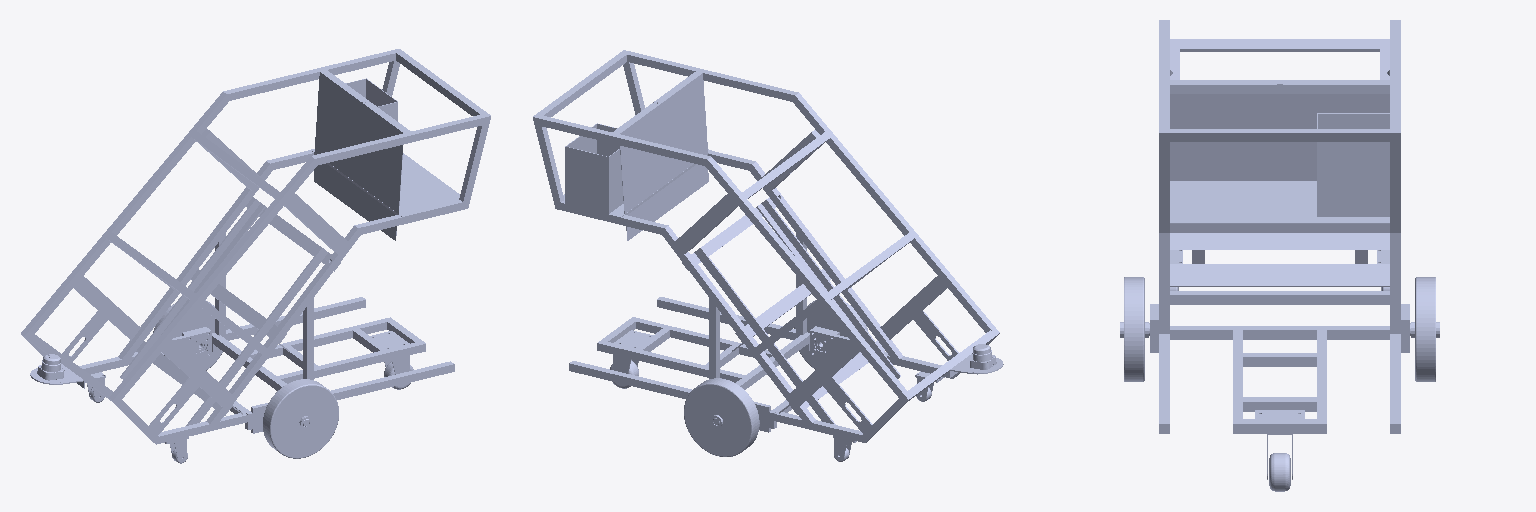
robot.urdf — DCMachine_ChassisAssy3:
<?xml version="1.0" encoding="utf-8"?>
<!-- This URDF was automatically created by SolidWorks to URDF Exporter! Originally created by [author] ([email redacted]) 
     Commit Version: 1.6.0-4-g7f85cfe  Build Version: 1.6.7995.38578
     For more information, please see http://wiki.ros.org/sw_urdf_exporter -->
<robot
  name="DCMachine_ChassisAssy3">
  <!-- Define the center of the main robot chassis projected on the ground -->	
  <link name="base_footprint"/>

  <link
    name="base_link">
    <inertial>
      <origin
        xyz="-0.071042 -0.003458 0.29314"
        rpy="0 0 0" />
      <mass
        value="7.4678" />
      <inertia
        ixx="0.60509"
        ixy="-0.0092587"
        ixz="0.18184"
        iyy="0.90966"
        iyz="0.0061174"
        izz="0.76878" />
    </inertial>
    <visual>
      <origin
        xyz="0 0 0"
        rpy="0 0 0" />
      <geometry>
        <mesh
          filename="package://suru_v1_0/meshes/base_link.STL" />
      </geometry>
      <material
        name="">
        <color
          rgba="0.79608 0.82353 0.93725 1" />
      </material>
    </visual>
    <collision>
      <origin
        xyz="0 0 0"
        rpy="0 0 0" />
      <geometry>
        <mesh
          filename="package://suru_v1_0/meshes/base_link.STL" />
      </geometry>
    </collision>
  </link>
  <joint 
    name="base_joint" 
    type="fixed">
    <parent 
      link="base_footprint"/>
    <child 
      link="base_link" />
    <origin 
      xyz="0.0 0.0 0.075" 
      rpy="0 0 3.14159"/>
  </joint>
  <link
    name="Lidar_link">
    <inertial>
      <origin
        xyz="4.3703E-05 3.9109E-07 -0.030142"
        rpy="0 0 0" />
      <mass
        value="0.016942" />
      <inertia
        ixx="6.7498E-06"
        ixy="4.1275E-10"
        ixz="-3.3392E-09"
        iyy="6.6963E-06"
        iyz="-1.284E-10"
        izz="1.0274E-05" />
    </inertial>
    <visual>
      <origin
        xyz="0 0 0"
        rpy="0 0 0" />
      <geometry>
        <mesh
          filename="package://suru_v1_0/meshes/Lidar_link.STL" />
      </geometry>
      <material
        name="">
        <color
          rgba="0.79608 0.82353 0.93725 1" />
      </material>
    </visual>
    <collision>
      <origin
        xyz="0 0 0"
        rpy="0 0 0" />
      <geometry>
        <mesh
          filename="package://suru_v1_0/meshes/Lidar_link.STL" />
      </geometry>
    </collision>
  </link>
  <joint
    name="Lidar_joint"
    type="fixed">
    <origin
      xyz="0.57569 0.032864 0.20635"
      rpy="0 -0.087266 0" />
    <parent
      link="base_link" />
    <child
      link="Lidar_link" />
    <axis
      xyz="0 0 0" />
  </joint>
  <link
    name="imu_link">
    <inertial>
      <origin
        xyz="0 -5.3809E-19 -0.0005"
        rpy="0 0 0" />
      <mass
        value="0.00019686" />
      <inertia
        ixx="1.6823E-09"
        ixy="3.1487E-26"
        ixz="2.9081E-24"
        iyy="6.6823E-09"
        iyz="-7.6801E-27"
        izz="8.3318E-09" />
    </inertial>
    <visual>
      <origin
        xyz="0 0 0"
        rpy="0 0 0" />
      <geometry>
        <mesh
          filename="package://suru_v1_0/meshes/imu_link.STL" />
      </geometry>
      <material
        name="">
        <color
          rgba="0.79608 0.82353 0.93725 1" />
      </material>
    </visual>
    <collision>
      <origin
        xyz="0 0 0"
        rpy="0 0 0" />
      <geometry>
        <mesh
          filename="package://suru_v1_0/meshes/imu_link.STL" />
      </geometry>
    </collision>
  </link>
  <joint
    name="imu_joint"
    type="fixed">
    <origin
      xyz="-0.34662 0 0.682"
      rpy="0 0 0" />
    <parent
      link="base_link" />
    <child
      link="imu_link" />
    <axis
      xyz="0 0 0" />
  </joint>
  <link
    name="LDWheel_link">
    <inertial>
      <origin
        xyz="-6.9389E-18 1.3878E-17 -0.0275"
        rpy="0 0 0" />
      <mass
        value="1.2472" />
      <inertia
        ixx="0.0032987"
        ixy="-9.4868E-20"
        ixz="-2.6982E-19"
        iyy="0.0032987"
        iyz="9.4165E-21"
        izz="0.0062599" />
    </inertial>
    <visual>
      <origin
        xyz="0 0 0"
        rpy="0 0 0" />
      <geometry>
        <mesh
          filename="package://suru_v1_0/meshes/LDWheel_link.STL" />
      </geometry>
      <material
        name="">
        <color
          rgba="0.79608 0.82353 0.93725 1" />
      </material>
    </visual>
    <collision>
      <origin
        xyz="0 0 0"
        rpy="0 0 0" />
      <geometry>
        <mesh
          filename="package://suru_v1_0/meshes/LDWheel_link.STL" />
      </geometry>
    </collision>
  </link>
  <joint
    name="LDwheel_joint"
    type="fixed"> <!--continuous-->
    <origin
      xyz="0 0.305 0"
      rpy="-1.5708 0 0" />
    <parent
      link="base_link" />
    <child
      link="LDWheel_link" />
    <axis
      xyz="0 0 1" />
    <limit
      effort="0.1"
      velocity="0.1" />
    <dynamics
      damping="0.1"
      friction="0.1" />
  </joint>
  <link
    name="RDwheel_link">
    <inertial>
      <origin
        xyz="-6.93889390390723E-18 1.38777878078145E-17 0.0275"
        rpy="0 0 0" />
      <mass
        value="1.24724011920055" />
      <inertia
        ixx="0.00329865472841151"
        ixy="-2.03287907341032E-19"
        ixz="-1.26969018217939E-22"
        iyy="0.00329865472841151"
        iyz="1.30592719044522E-19"
        izz="0.00625989081903105" />
    </inertial>
    <visual>
      <origin
        xyz="0 0 0"
        rpy="0 0 0" />
      <geometry>
        <mesh
          filename="package://suru_v1_0/meshes/RDwheel_link.STL" />
      </geometry>
      <material
        name="">
        <color
          rgba="0.796078431372549 0.823529411764706 0.937254901960784 1" />
      </material>
    </visual>
    <collision>
      <origin
        xyz="0 0 0"
        rpy="0 0 0" />
      <geometry>
        <mesh
          filename="package://suru_v1_0/meshes/RDwheel_link.STL" />
      </geometry>
    </collision>
  </link>
  <joint
    name="RDwheel_joint"
    type="fixed"> <!--continuous-->
    <origin
      xyz="0 -0.305 0"
      rpy="-1.5708 0 0" />
    <parent
      link="base_link" />
    <child
      link="RDwheel_link" />
    <axis
      xyz="0 0 -1" />
    <limit
      effort="0.1"
      velocity="0.1" />
    <dynamics
      damping="0.1"
      friction="0.1" />
  </joint>
  <link
    name="Backcastor_link">
    <inertial>
      <origin
        xyz="5.55111512312578E-17 -1.04083408558608E-17 0.02"
        rpy="0 0 0" />
      <mass
        value="0.156204027643944" />
      <inertia
        ixx="6.94087648783948E-05"
        ixy="-1.68438824387141E-08"
        ixz="5.29770780684553E-22"
        iyy="6.94519067047098E-05"
        iyz="-6.67976189330212E-21"
        izz="0.000100612250150483" />
    </inertial>
    <visual>
      <origin
        xyz="0 0 0"
        rpy="0 0 0" />
      <geometry>
        <mesh
          filename="package://suru_v1_0/meshes/Backcastor_link.STL" />
      </geometry>
      <material
        name="">
        <color
          rgba="0.796078431372549 0.823529411764706 0.937254901960784 1" />
      </material>
    </visual>
    <collision>
      <origin
        xyz="0 0 0"
        rpy="0 0 0" />
      <geometry>
        <mesh
          filename="package://suru_v1_0/meshes/Backcastor_link.STL" />
      </geometry>
    </collision>
  </link>
  <joint
    name="backcastor_joint"
    type="fixed">
    <origin
      xyz="-0.443 -0.02 -0.0925"
      rpy="-1.5708 0 0" />
    <parent
      link="base_link" />
    <child
      link="Backcastor_link" />
    <axis
      xyz="0 0 0" />
  </joint>
  <link
    name="FRcastor_link">
    <inertial>
      <origin
        xyz="0 0 0.0125"
        rpy="0 0 0" />
      <mass
        value="0.0226494176183697" />
      <inertia
        ixx="2.86010634001758E-06"
        ixy="5.78496627265425E-10"
        ixz="8.66066143272748E-22"
        iyy="2.86648047151363E-06"
        iyz="-2.83027272713431E-23"
        izz="3.4875920313739E-06" />
    </inertial>
    <visual>
      <origin
        xyz="0 0 0"
        rpy="0 0 0" />
      <geometry>
        <mesh
          filename="package://suru_v1_0/meshes/FRcastor_link.STL" />
      </geometry>
      <material
        name="">
        <color
          rgba="0.796078431372549 0.823529411764706 0.937254901960784 1" />
      </material>
    </visual>
    <collision>
      <origin
        xyz="0 0 0"
        rpy="0 0 0" />
      <geometry>
        <mesh
          filename="package://suru_v1_0/meshes/FRcastor_link.STL" />
      </geometry>
    </collision>
  </link>
  <joint
    name="FRcastor_joint"
    type="fixed">
    <origin
      xyz="0.3075 -0.2195 -0.058"
      rpy="-1.5708 0 0" />
    <parent
      link="base_link" />
    <child
      link="FRcastor_link" />
    <axis
      xyz="0 0 0" />
  </joint>
  <link
    name="FLCastor_Link">
    <inertial>
      <origin
        xyz="5.55111512312578E-17 -6.93889390390723E-18 -0.0125"
        rpy="0 0 0" />
      <mass
        value="0.0226494176183697" />
      <inertia
        ixx="2.86281326249822E-06"
        ixy="-3.20335899843479E-09"
        ixz="1.25996937305907E-22"
        iyy="2.86377354903303E-06"
        iyz="-3.22113772864065E-23"
        izz="3.48759203137393E-06" />
    </inertial>
    <visual>
      <origin
        xyz="0 0 0"
        rpy="0 0 0" />
      <geometry>
        <mesh
          filename="package://suru_v1_0/meshes/FLCastor_Link.STL" />
      </geometry>
      <material
        name="">
        <color
          rgba="0.796078431372549 0.823529411764706 0.937254901960784 1" />
      </material>
    </visual>
    <collision>
      <origin
        xyz="0 0 0"
        rpy="0 0 0" />
      <geometry>
        <mesh
          filename="package://suru_v1_0/meshes/FLCastor_Link.STL" />
      </geometry>
    </collision>
  </link>
  <joint
    name="FLcastor_joint"
    type="fixed">
    <origin
      xyz="0.3075 0.2195 -0.058"
      rpy="-1.5708 0 0" />
    <parent
      link="base_link" />
    <child
      link="FLCastor_Link" />
    <axis
      xyz="0 0 0" />
  </joint>
</robot>

--- Render facts (derived) ---
The picture shows the robot from 3 angles, left to right: view 1: azimuth 30°, elevation 25°; view 2: azimuth 150°, elevation 25°; view 3: azimuth 270°, elevation 25°; orthographic projection.
Robot: DCMachine_ChassisAssy3 — 9 links, 8 joints (8 fixed); root link base_footprint; default pose: every joint at zero.
Links seen in each view (by area): view 1: base_link, LDWheel_link, RDwheel_link, Lidar_link; view 2: base_link, RDwheel_link, LDWheel_link, Lidar_link; view 3: base_link, LDWheel_link, RDwheel_link, Backcastor_link.
Link boxes in pixels (x1,y1,x2,y2): base_link: (21,49,490,461); LDWheel_link: (263,379,338,458); RDwheel_link: (153,300,227,370); Lidar_link: (37,354,64,380); base_link: (533,50,1003,460); RDwheel_link: (684,378,759,456); LDWheel_link: (794,300,867,369); Lidar_link: (970,344,996,369); base_link: (1149,20,1410,479); LDWheel_link: (1120,277,1148,381); RDwheel_link: (1411,277,1439,381); Backcastor_link: (1269,453,1290,491).
Bounding box of the posed robot: 1.21 × 0.61 × 0.811 m (x, y, z).
8 mesh visuals loaded from 8 distinct referenced files (8 binary STL).
